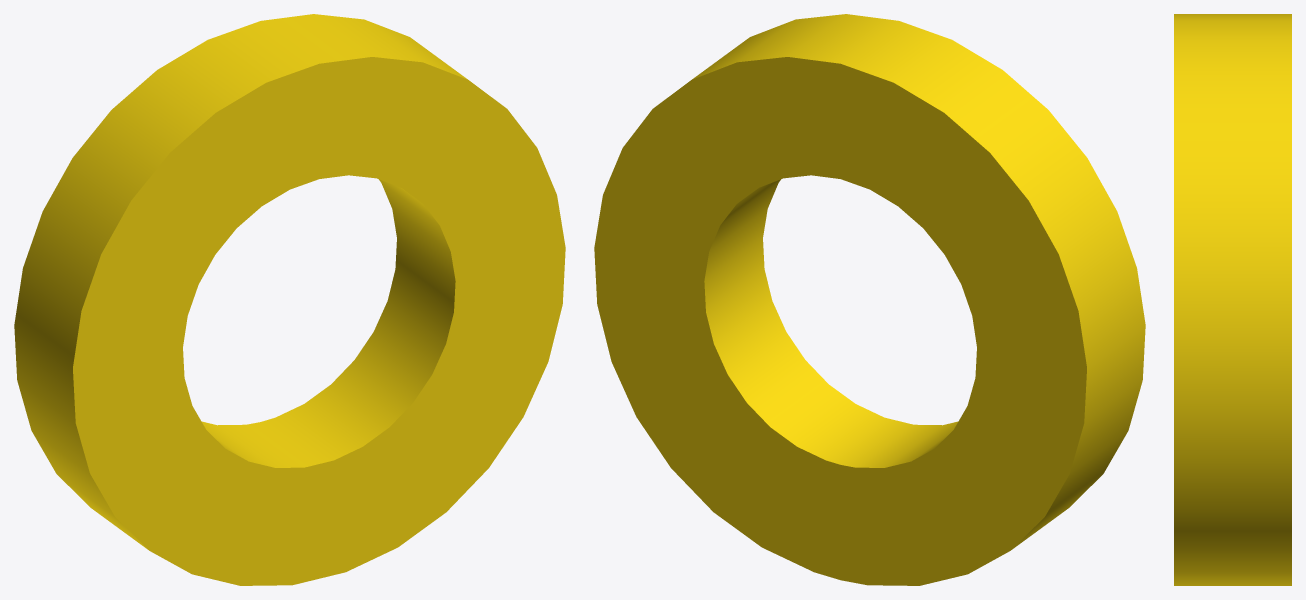
The model's file is A26_W111_spacer.gltf.
3 views of the same model, side by side, from view 1: azimuth 30°, elevation 25°; view 2: azimuth 150°, elevation 25°; view 3: azimuth 270°, elevation 25° (orthographic).
Parts seen in each view (by area): view 1: mesh17604, mesh17605, mesh17607; view 2: mesh17606, mesh17605, mesh17607; view 3: mesh17605.
Boxes of the visible parts, <box> form: mesh17604: <box>73,57,565,585</box>; mesh17605: <box>14,14,467,549</box>; mesh17607: <box>202,179,455,467</box>; mesh17606: <box>594,57,1086,585</box>; mesh17605: <box>692,14,1145,549</box>; mesh17607: <box>704,179,957,467</box>; mesh17605: <box>1174,14,1291,585</box>.
Size of the model in its own units: 0.0174 by 0.0174 by 0.00359.
